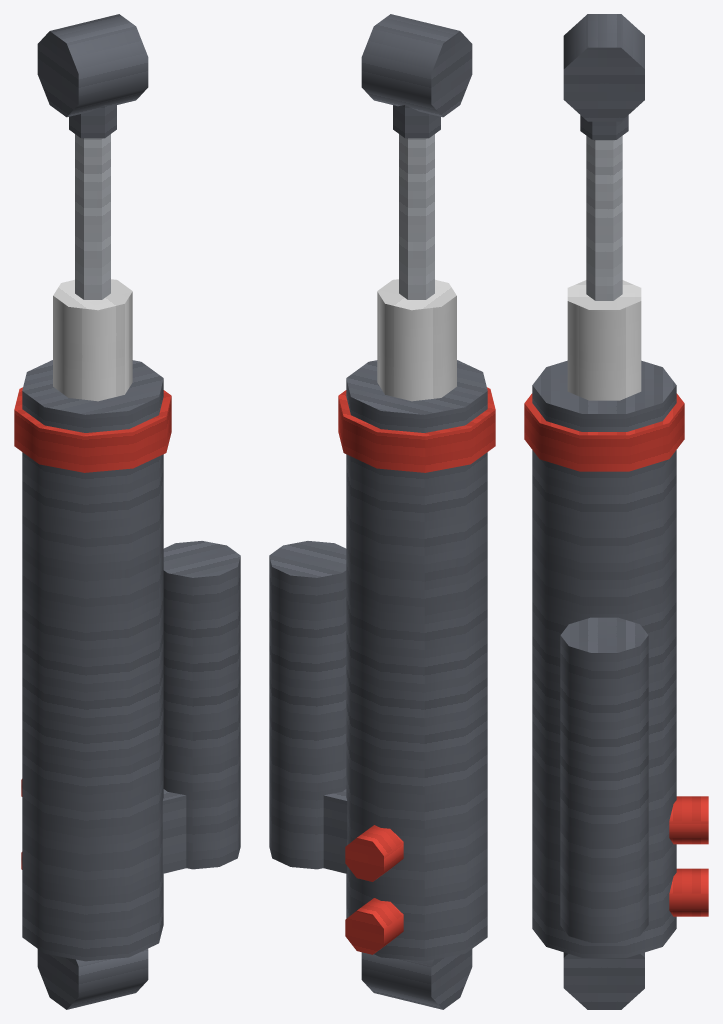
The model's file is amortecedores_n4.glb.
3 views of the same model, side by side, from view 1: azimuth 30°, elevation 25°; view 2: azimuth 150°, elevation 25°; view 3: azimuth 270°, elevation 25° (orthographic).
Visible parts, largest first — view 1: amortecedores_n4; view 2: amortecedores_n4; view 3: amortecedores_n4.
Boxes of the visible parts, <box> form: amortecedores_n4: <box>14,14,240,1009</box>; amortecedores_n4: <box>269,14,495,1009</box>; amortecedores_n4: <box>524,14,708,1009</box>.
Size of the model in its own units: 0.119 by 0.5307 by 0.092.
2 materials, 2 textured.
